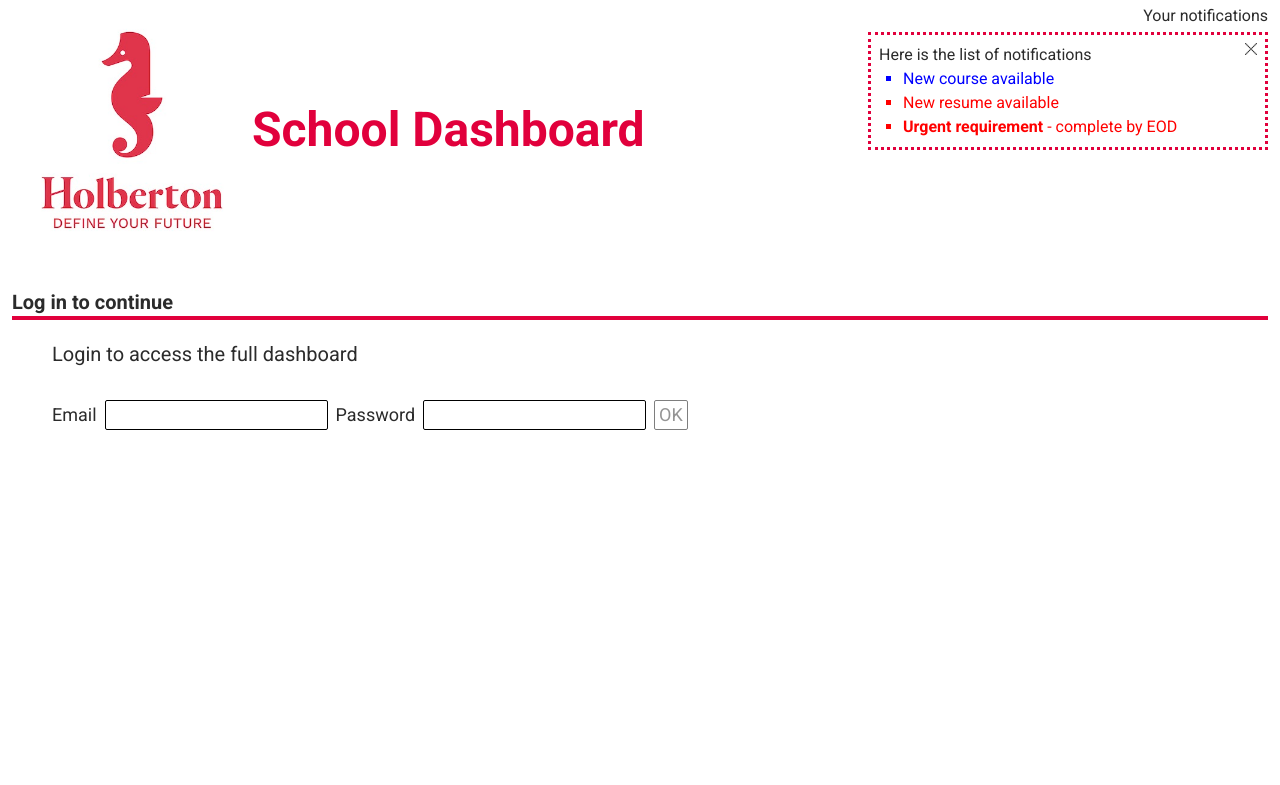
Test case: App › renders the CourseList in place of the Login form once logged in
The width and height of the screenshot is (1280, 785).
Type "user@example.com" into the field labelled "Email". click: (216, 415)
box: [105,400,328,430]
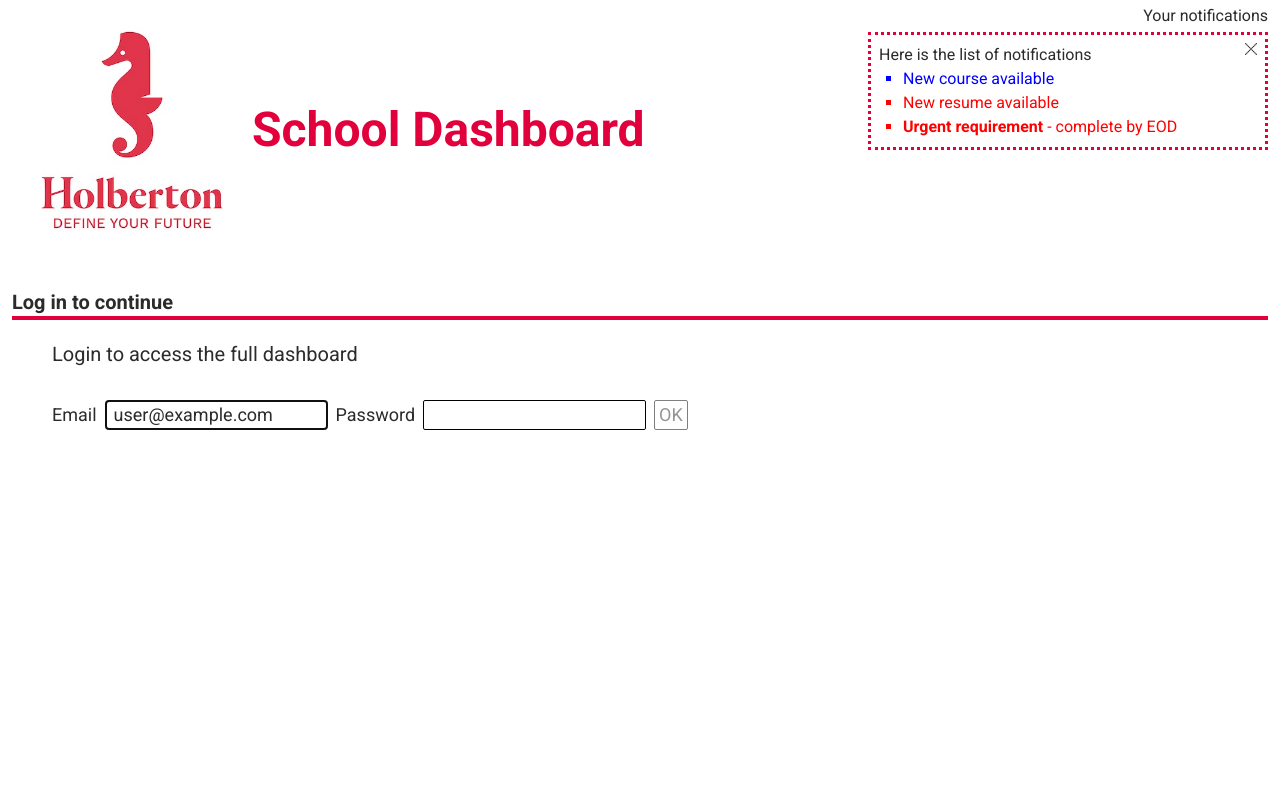
Type "secret-password" into the password field labelled "Password". click: (535, 415)
box: [423,400,646,430]
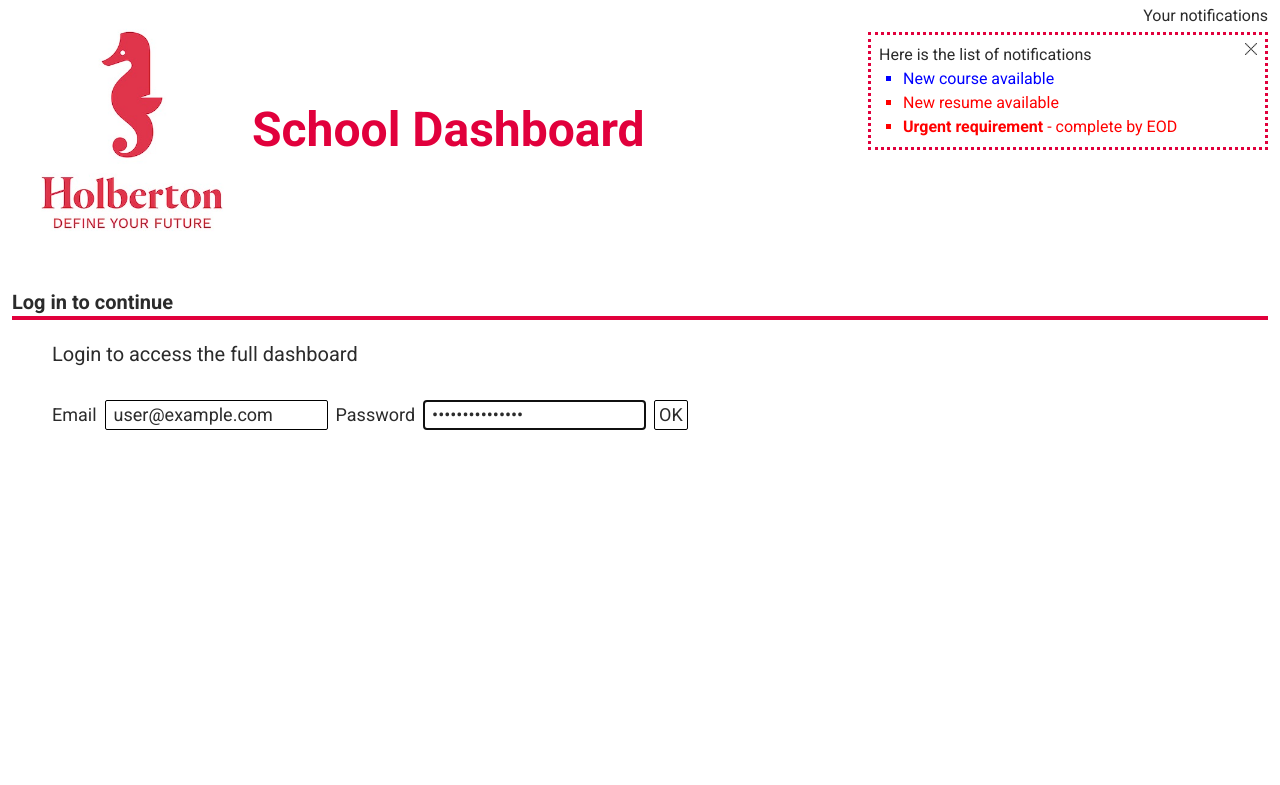
Click the button "OK". click: (671, 415)
box: [654,400,688,430]
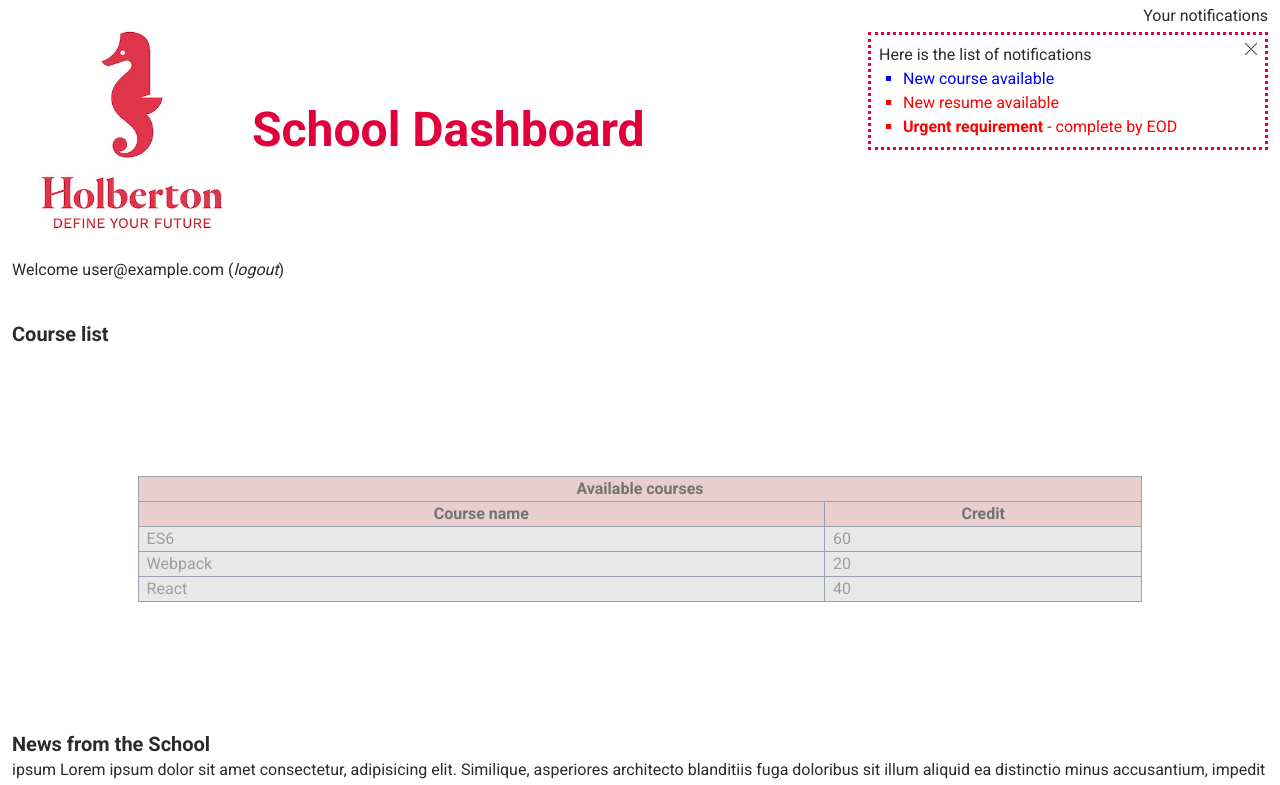
Now the table with id "CourseList" is shown, box [138,476,1142,602]
Now the heading "Course list" is shown, box [12,322,109,346]
Now the column heading "Available courses" is shown, box [138,476,1142,502]
